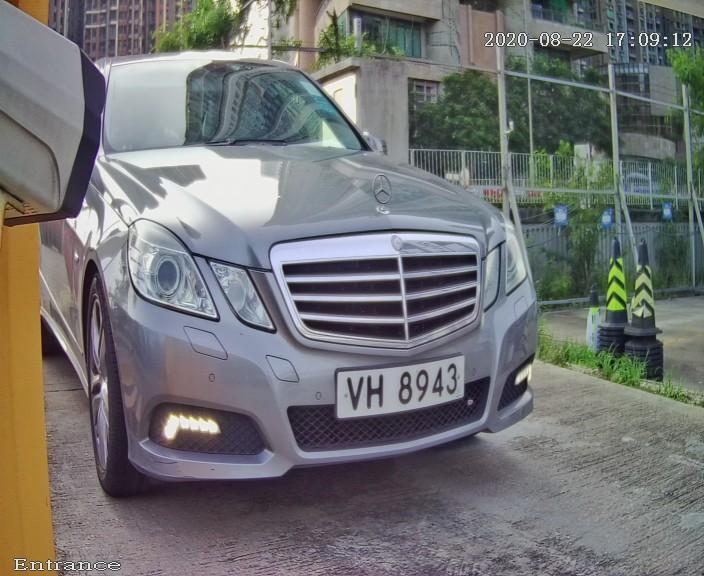Car: (35, 19, 585, 507)
License Plate: (310, 346, 494, 428)
